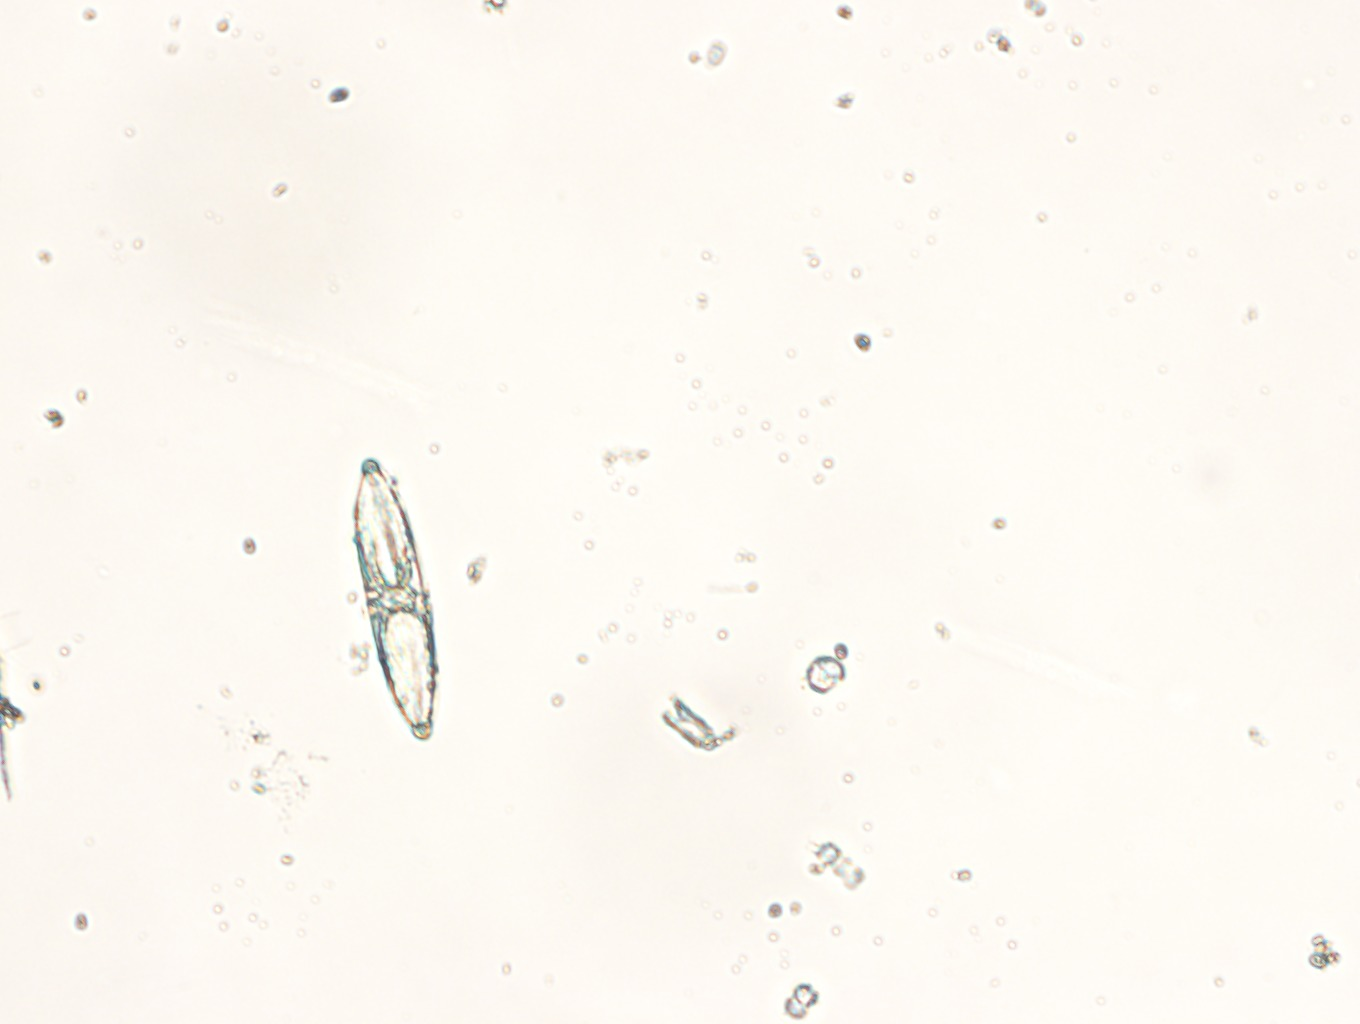navicula: (352, 461, 436, 741)
